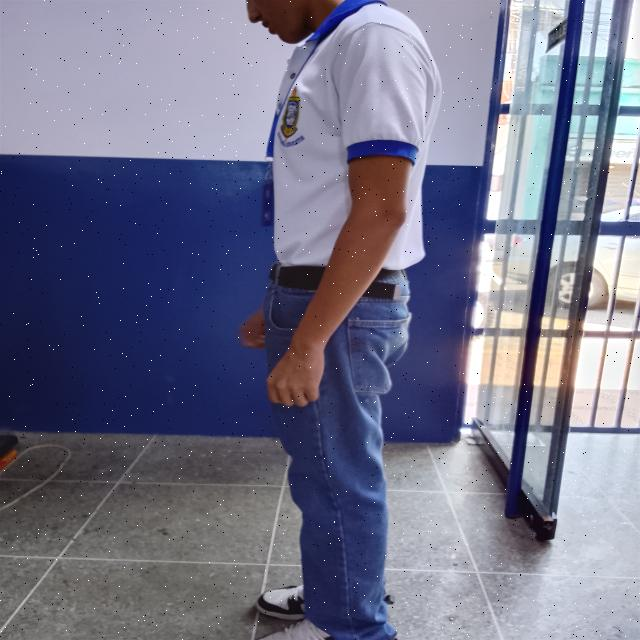carnet: (262, 178, 273, 226)
uniforme_superior: (272, 0, 443, 269)
